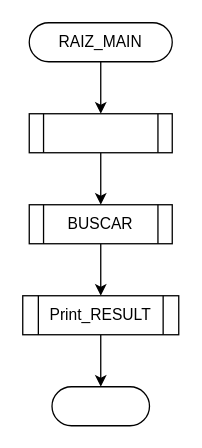
The diagram is 202 pixels wide and 448 high, and some of its shapes have lost their labels. The box of each missing label's shape, as (x1, y1, x2, y2) in pixels:
FIN: (51, 385, 150, 426)
LEER_CANT: (28, 112, 172, 153)
